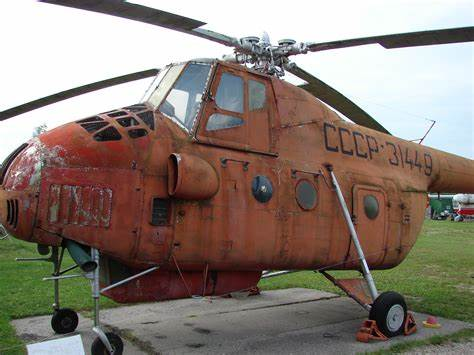rust: (58, 131, 142, 253), (227, 154, 327, 250), (327, 121, 454, 186), (129, 272, 243, 292)
